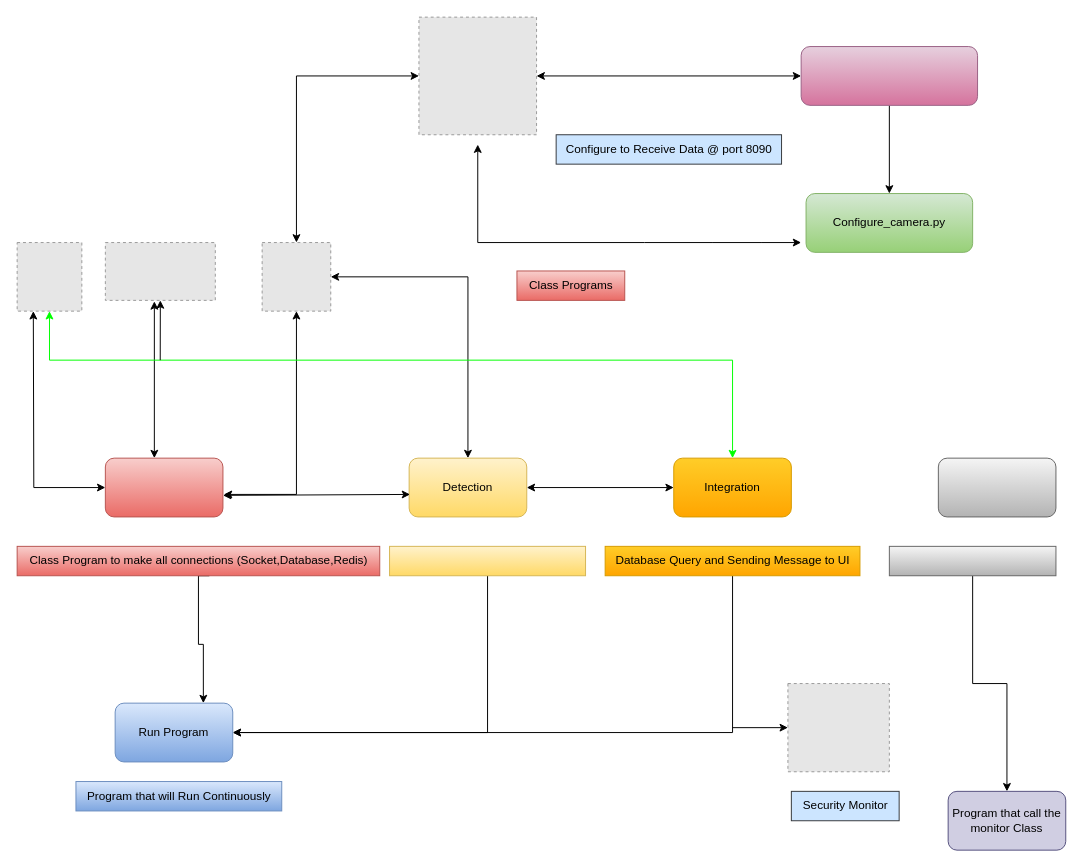
The diagram is 1083 pixels wide and 867 high, and some of its shapes have lost their labels. Grey dashed boxes stand in for pictures. Here are the shapes that lost their labels. From the top down, the centre of each, then its label:
At point 889,75: "API.py".
At point 163,487: "Connection".
At point 996,487: "Monitor".
At point 487,560: "Listening Socket and Extract Data".
At point 972,560: "Monitoring The Connections".
